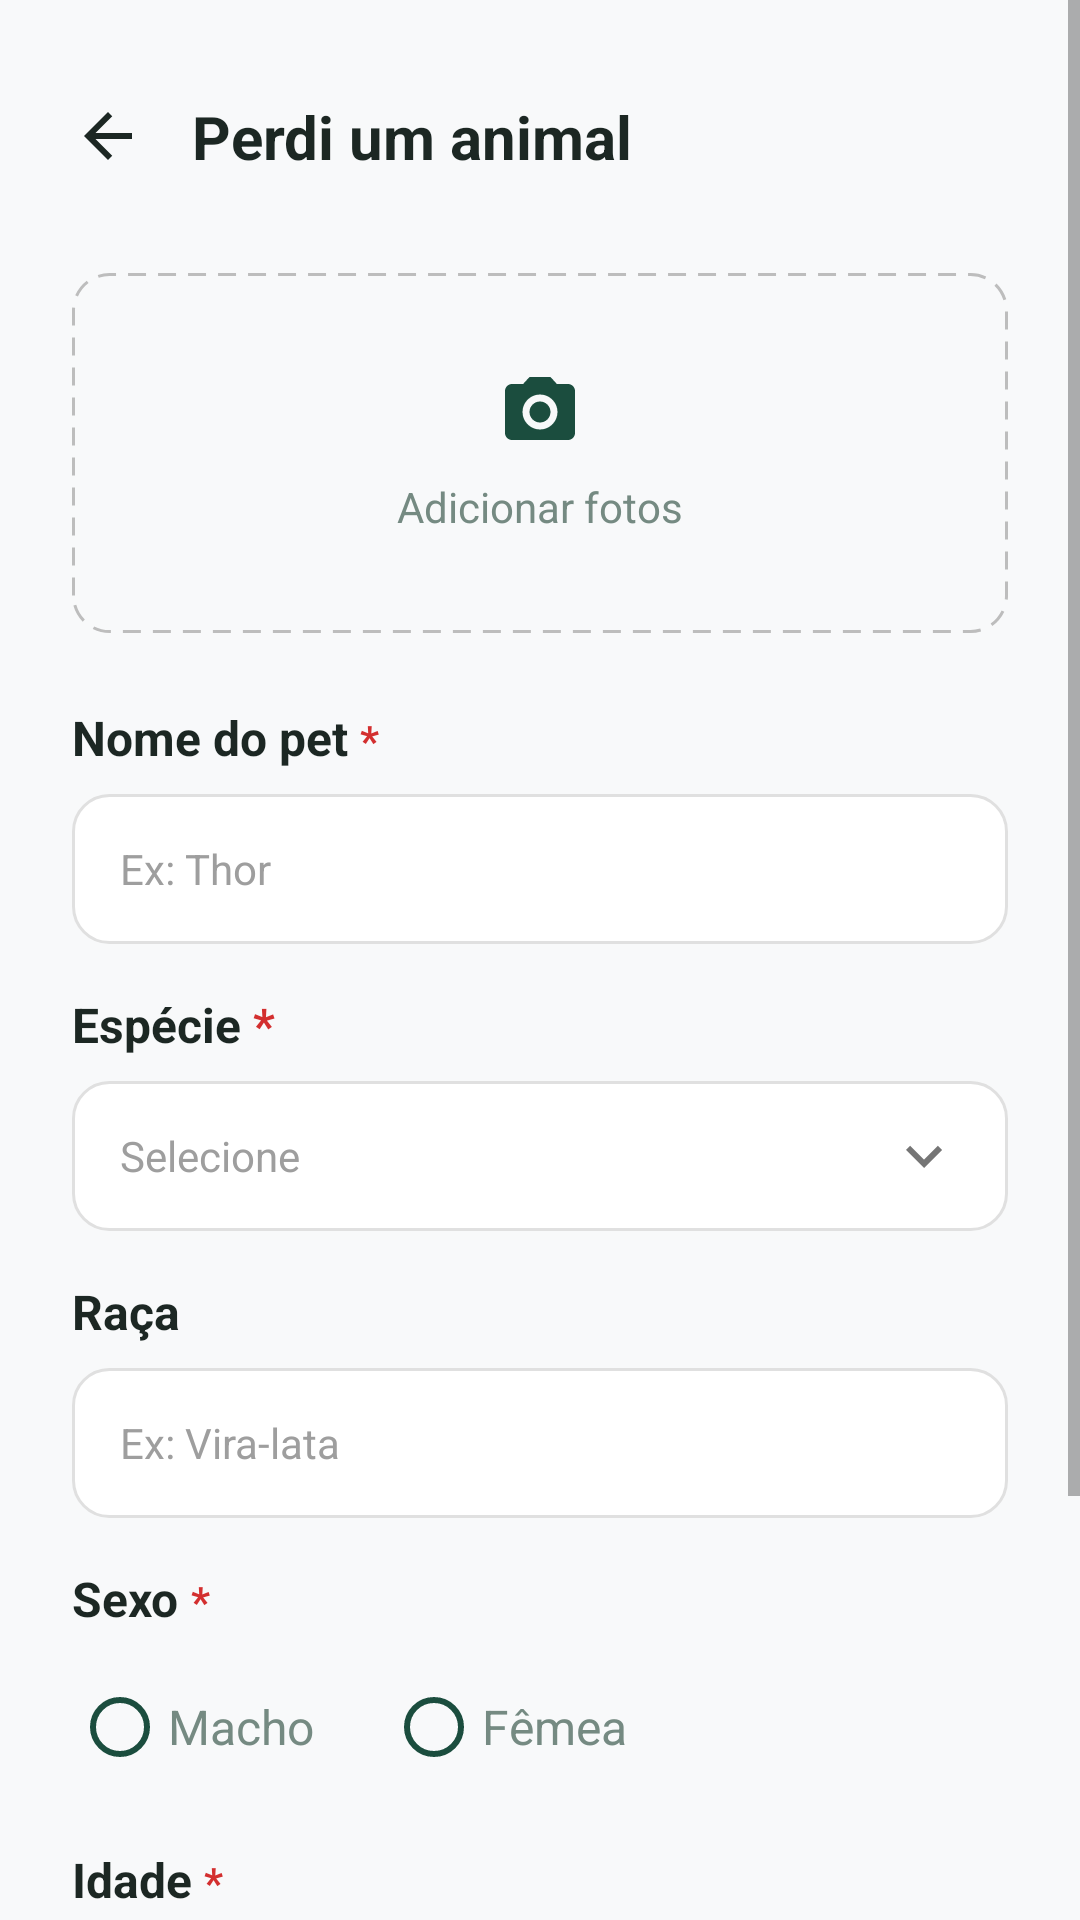

Point at icon controls on the screen. Image size 1080 × 1920, points as (x=x, y=y).
camera add: (x=540, y=408)
Voltar: (x=108, y=136)
